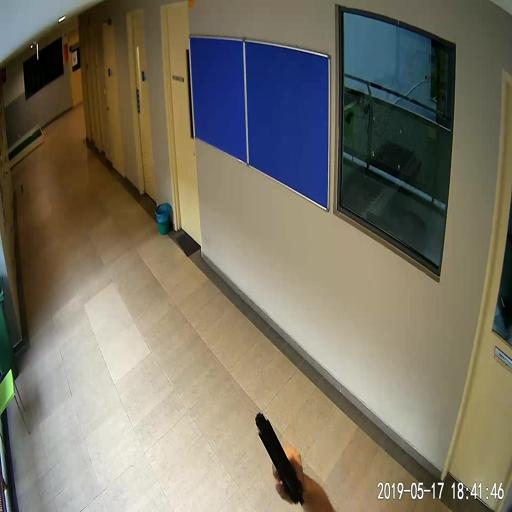pistol: (255, 411, 304, 505)
